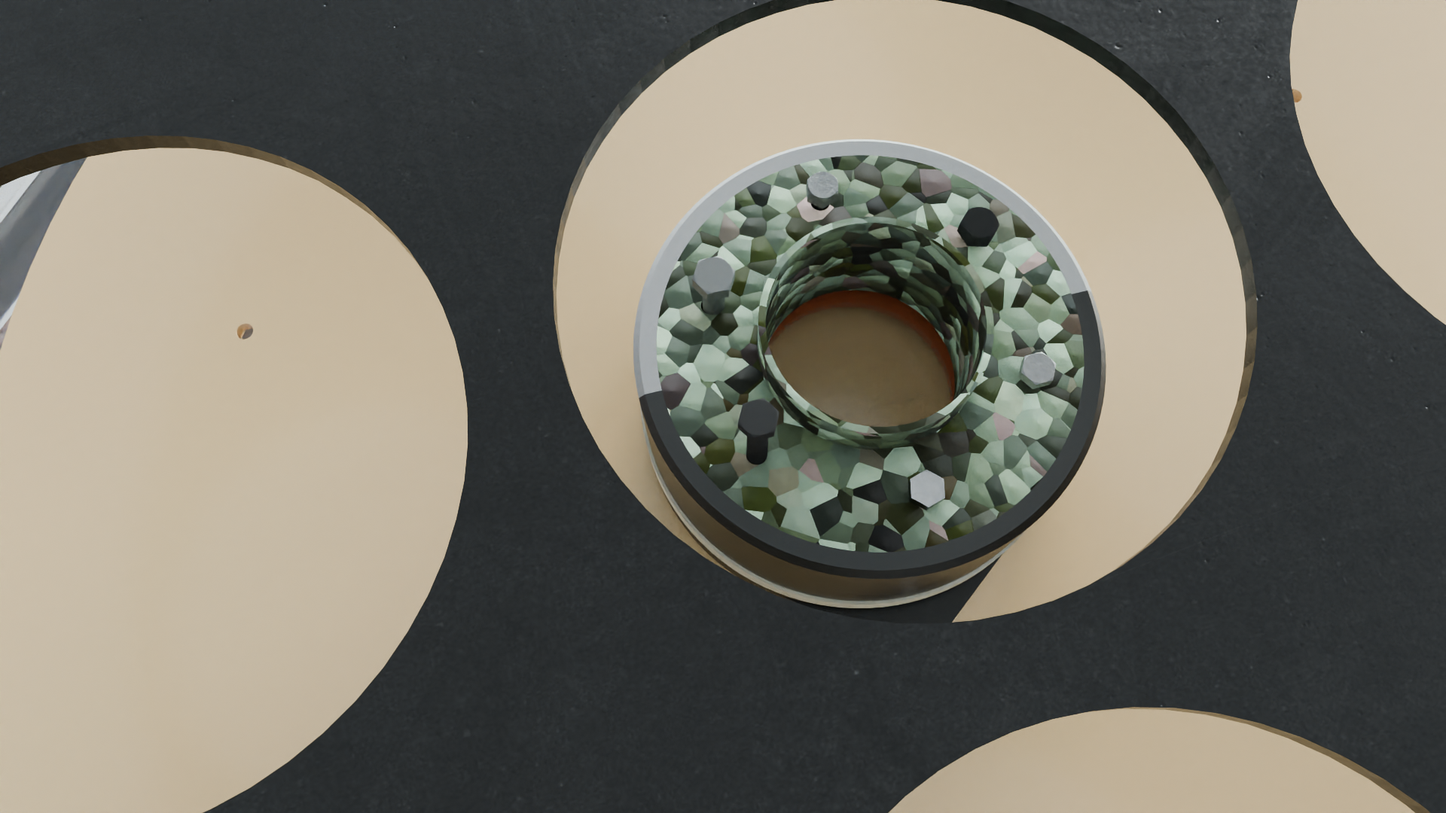bolt: (692, 256, 735, 294), (738, 398, 779, 437), (910, 470, 945, 507), (960, 207, 999, 239), (1021, 352, 1056, 385), (807, 172, 838, 202)
